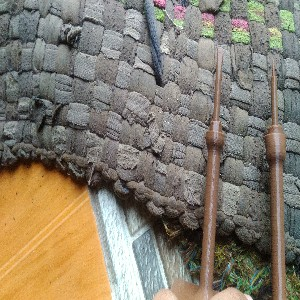obeng: (198, 52, 226, 300)
solder: (263, 57, 288, 300)
